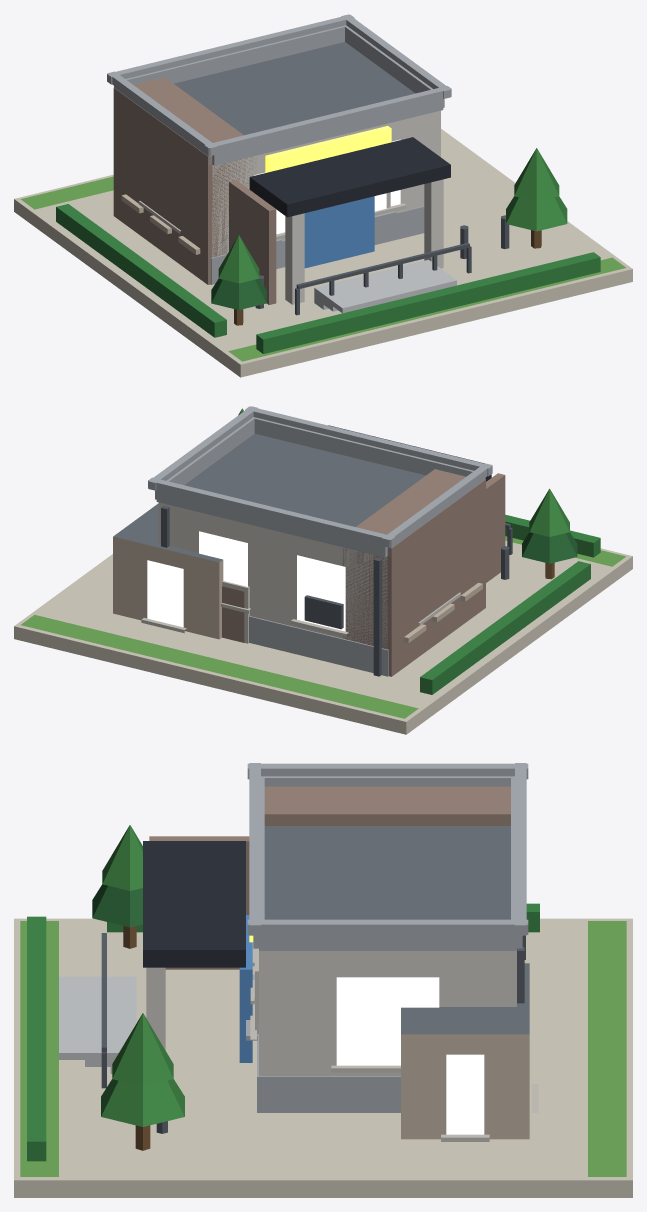
3 views of the same model, one above another, from view 1: azimuth 30°, elevation 25°; view 2: azimuth 150°, elevation 25°; view 3: azimuth 270°, elevation 25° (orthographic). The views are drawn at different scales.
Visible parts, largest first — view 1: b23; view 2: b23; view 3: b23.
Boxes of the visible parts, x1,y1,x2,y2 form: b23: (14, 14, 632, 377); b23: (14, 406, 632, 734); b23: (14, 763, 632, 1197).
Size of the model in its own units: 0.96 by 0.358 by 0.96.
